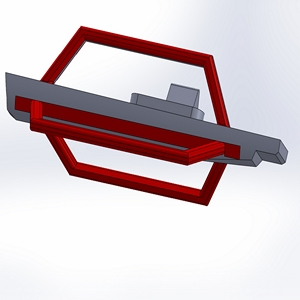submarine: (1, 11, 295, 229)
